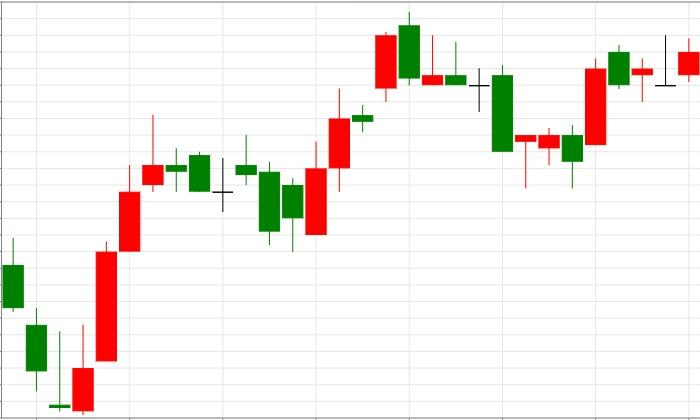three_white_soldiers_rise: (2, 164, 141, 415)
